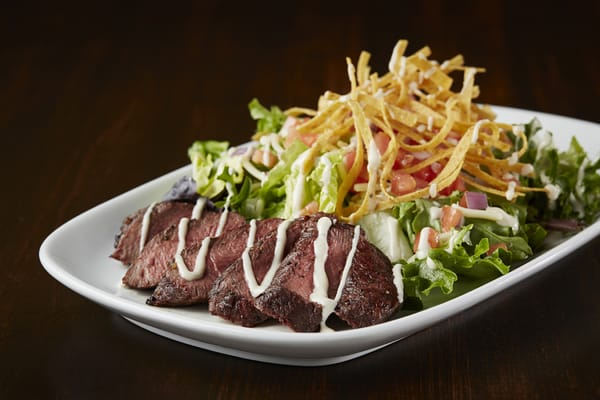sushi: (24, 40, 600, 367)
